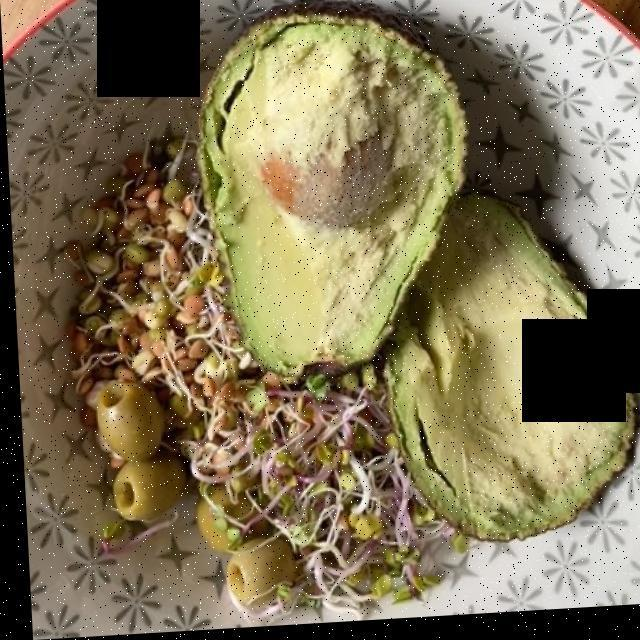avocado: (194, 21, 629, 535)
green-olives: (92, 401, 299, 624)
